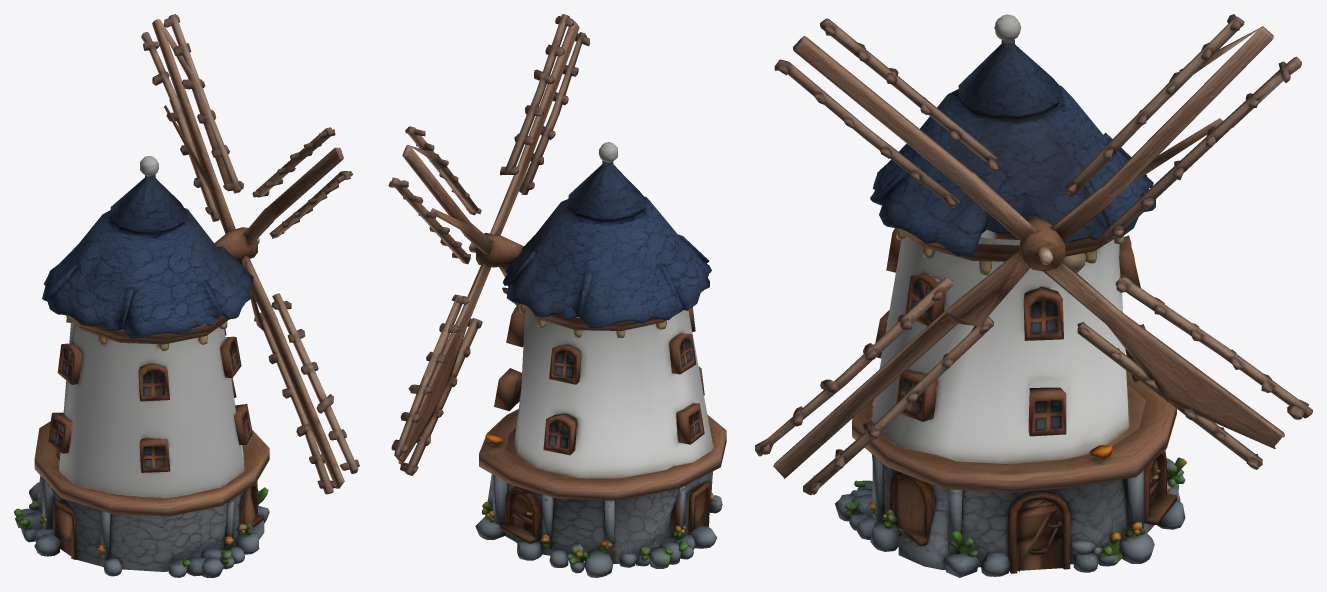
Rendered from windmill.glb.
3 views of the same model, side by side, from view 1: azimuth 30°, elevation 25°; view 2: azimuth 150°, elevation 25°; view 3: azimuth 270°, elevation 25° (orthographic). The views are drawn at different scales.
Parts seen in each view (by area): view 1: tripo_node_a7d75674-c123-413b-9dfd-112125648fe5; view 2: tripo_node_a7d75674-c123-413b-9dfd-112125648fe5; view 3: tripo_node_a7d75674-c123-413b-9dfd-112125648fe5.
Boxes of the visible parts, left/top/right/bottom form: tripo_node_a7d75674-c123-413b-9dfd-112125648fe5: left=14, top=14, right=359, bottom=577; tripo_node_a7d75674-c123-413b-9dfd-112125648fe5: left=388, top=14, right=726, bottom=577; tripo_node_a7d75674-c123-413b-9dfd-112125648fe5: left=755, top=14, right=1312, bottom=577.
Size of the model in its own units: 3.9 by 6.8 by 6.05.
Materials: 1 (1 with a texture image).
